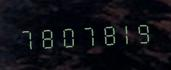eight: (36, 22, 54, 51), (93, 19, 111, 48)
nine: (131, 17, 149, 46)
one: (112, 18, 130, 47)
seven: (17, 23, 35, 52), (74, 20, 92, 49)
zero: (55, 21, 73, 50)
